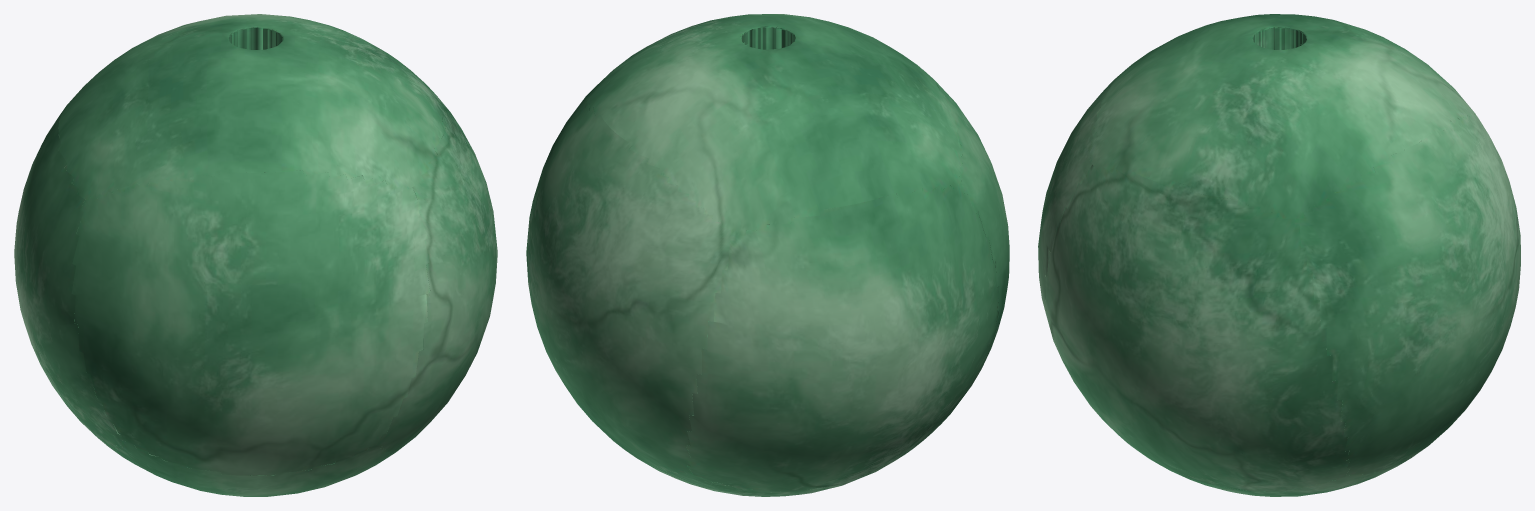
File: stone-jade.glb
3 views of the same model, side by side, from view 1: azimuth 30°, elevation 25°; view 2: azimuth 150°, elevation 25°; view 3: azimuth 270°, elevation 25° (orthographic).
Parts seen in each view (by area): view 1: Bead_hi; view 2: Bead_hi; view 3: Bead_hi.
Part boxes in pixels (x1,y1,x2,y2): Bead_hi: (14, 14, 497, 496); Bead_hi: (526, 14, 1009, 496); Bead_hi: (1038, 14, 1520, 496).
Bounding box in the file's own units: 1 × 0.9939 × 0.9996.
1 material, 1 textured.
